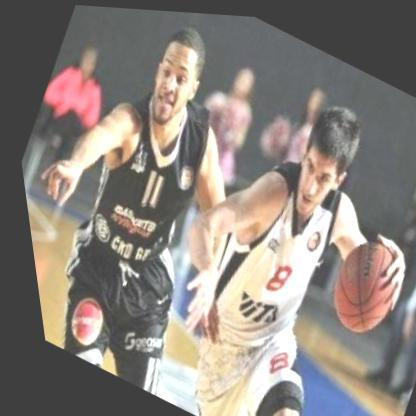basketball: (298, 216, 416, 352)
